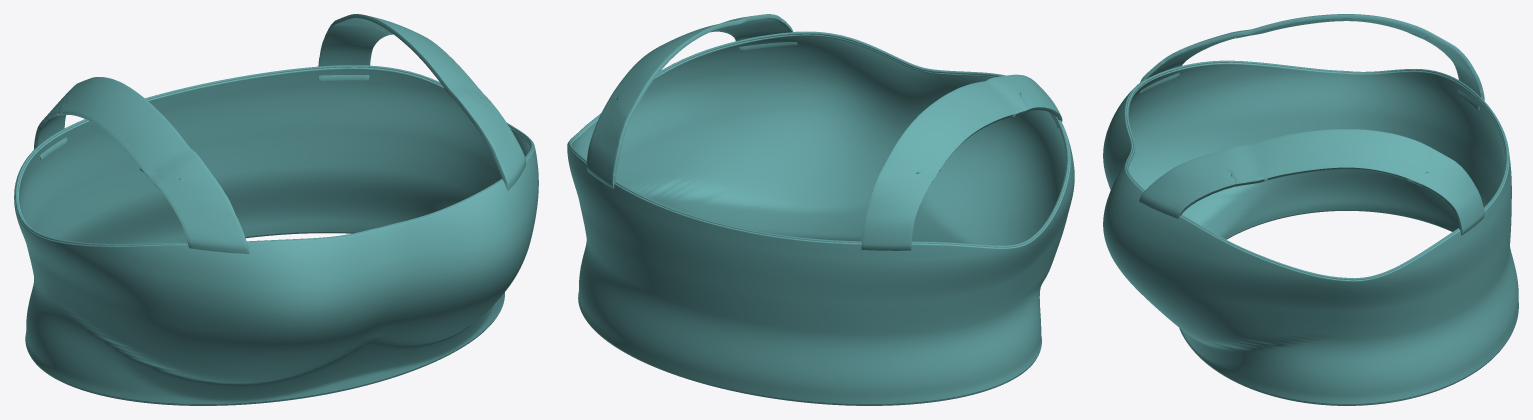
Rendered from Feminine-tank-top.glb.
3 views of the same model, side by side, from view 1: azimuth 30°, elevation 25°; view 2: azimuth 150°, elevation 25°; view 3: azimuth 270°, elevation 25° (orthographic). The views are drawn at different scales.
Visible parts, largest first — view 1: Clothing / tank body, Clothing / tank strap -1, Clothing / tank strap 1, tank body / bound edge.001 export, tank body / bound edge export; view 2: Clothing / tank body, Clothing / tank strap -1, Clothing / tank strap 1, tank body / bound edge.001 export, tank body / bound edge export; view 3: Clothing / tank body, Clothing / tank strap 1, Clothing / tank strap -1, tank body / bound edge.001 export, tank body / bound edge export.
Boxes of the visible parts, x1,y1,x2,y2 form: Clothing / tank body: [14, 67, 538, 404]; Clothing / tank strap -1: [34, 77, 249, 254]; Clothing / tank strap 1: [318, 14, 525, 190]; tank body / bound edge.001 export: [15, 65, 533, 245]; tank body / bound edge export: [31, 232, 493, 405]; Clothing / tank body: [567, 31, 1074, 404]; Clothing / tank strap -1: [861, 74, 1062, 250]; Clothing / tank strap 1: [586, 14, 797, 189]; tank body / bound edge.001 export: [568, 31, 1069, 247]; tank body / bound edge export: [588, 323, 1035, 405]; Clothing / tank body: [1103, 62, 1518, 404]; Clothing / tank strap 1: [1139, 129, 1484, 235]; Clothing / tank strap -1: [1140, 14, 1484, 110]; tank body / bound edge.001 export: [1126, 60, 1508, 280]; tank body / bound edge export: [1195, 210, 1499, 405].
Bounding box in the file's own units: 0.6437 × 0.3402 × 0.5425.
